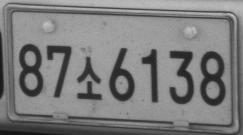1: (138, 48, 167, 103)
3: (168, 49, 194, 104)
6: (107, 47, 135, 102)
7: (46, 44, 72, 98)
8: (199, 49, 226, 106), (18, 43, 43, 97)
소: (76, 56, 102, 100)
